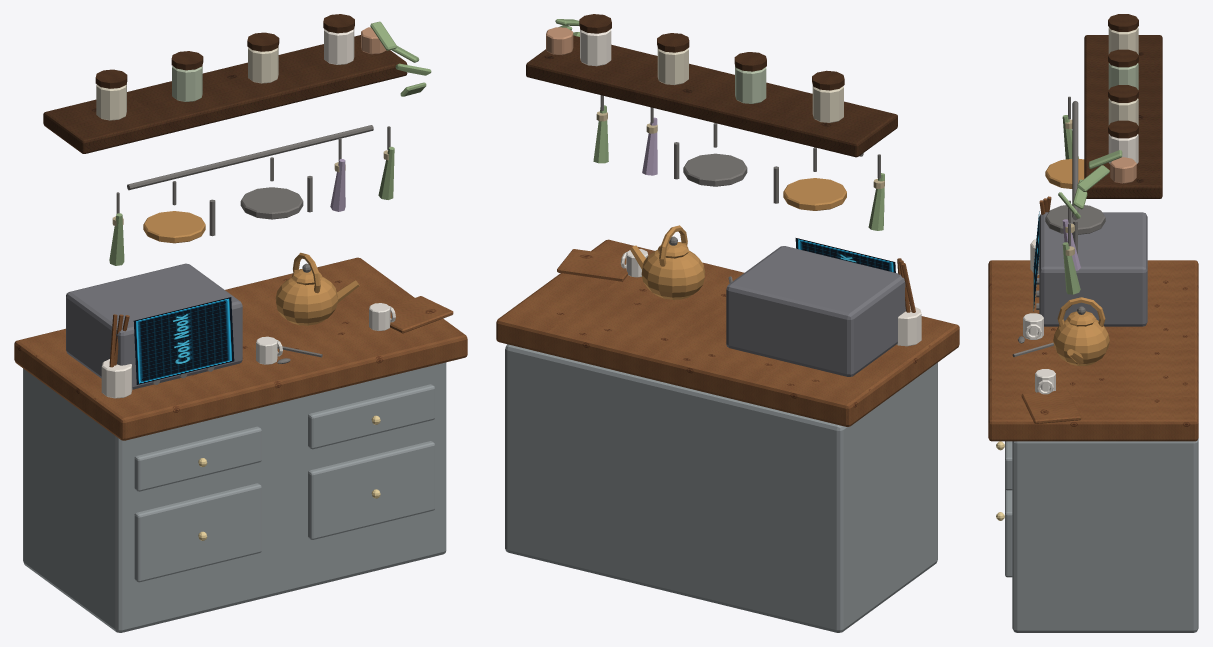
File: cooknook_counter.glb
3 renders of one model, left to right at view 1: azimuth 30°, elevation 25°; view 2: azimuth 150°, elevation 25°; view 3: azimuth 270°, elevation 25°, orthographic. The views are drawn at different scales.
Visible parts, largest first — view 1: body, top, shelf, stove, drawer_2, drawer_3, screen, drawer_0, drawer_1, kettle, rail, pan_1 (+7 smaller); view 2: body, top, stove, shelf, kettle, pan_1, pan_0, cutting_board, screen, jar_2, jar_3, jar_0 (+3 smaller); view 3: body, top, stove, shelf, kettle, cutting_board, pan_1, pan_0, rail, drawer_3, jar_0, jar_1 (+16 smaller).
Part boxes in pixels (left/top/right/bottom): body: left=23, top=362, right=446, bottom=632; top: left=14, top=257, right=467, bottom=440; shelf: left=43, top=35, right=407, bottom=153; stove: left=66, top=263, right=242, bottom=389; drawer_2: left=134, top=483, right=261, bottom=582; drawer_3: left=308, top=441, right=434, bottom=539; screen: left=133, top=297, right=234, bottom=384; drawer_0: left=134, top=426, right=261, bottom=491; drawer_1: left=308, top=384, right=434, bottom=449; kettle: left=275, top=276, right=337, bottom=325; rail: left=127, top=125, right=373, bottom=190; pan_1: left=240, top=187, right=303, bottom=219; body: left=505, top=344, right=937, bottom=632; top: left=496, top=239, right=959, bottom=426; stove: left=726, top=246, right=905, bottom=376; shelf: left=526, top=35, right=897, bottom=157; kettle: left=641, top=249, right=705, bottom=299; pan_1: left=683, top=153, right=747, bottom=186; pan_0: left=783, top=178, right=846, bottom=210; cutting_board: left=557, top=249, right=627, bottom=281; screen: left=795, top=238, right=895, bottom=272; jar_2: left=657, top=48, right=688, bottom=85; jar_3: left=580, top=29, right=611, bottom=66; jar_0: left=812, top=85, right=843, bottom=122; body: left=1012, top=438, right=1198, bottom=632; top: left=988, top=260, right=1198, bottom=441; stove: left=1039, top=212, right=1147, bottom=326; shelf: left=1084, top=35, right=1162, bottom=198; kettle: left=1053, top=319, right=1109, bottom=365; cutting_board: left=1021, top=390, right=1081, bottom=423; pan_1: left=1045, top=204, right=1105, bottom=234; pan_0: left=1045, top=158, right=1084, bottom=188; rail: left=1072, top=101, right=1078, bottom=220; drawer_3: left=1005, top=488, right=1012, bottom=577; jar_0: left=1108, top=27, right=1138, bottom=54; jar_1: left=1108, top=63, right=1138, bottom=89.
Bounding box in the file's own units: 1.31 × 1.78 × 0.7.
24 materials, 6 textured.
